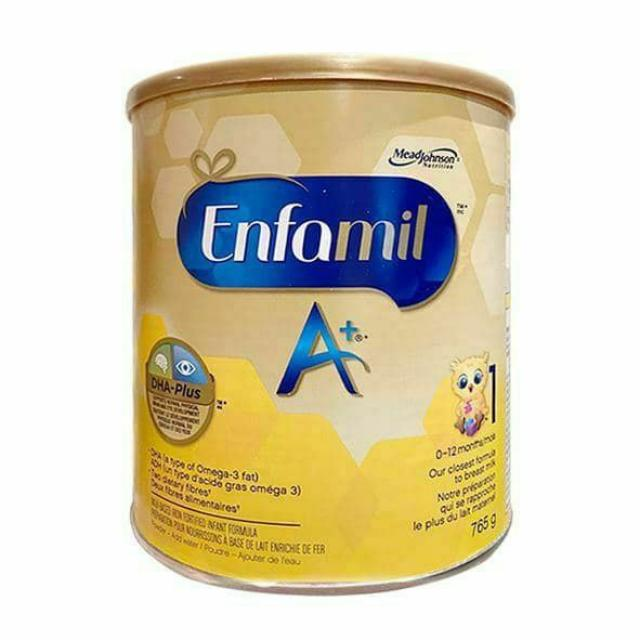formula-milk: (135, 97, 508, 567)
